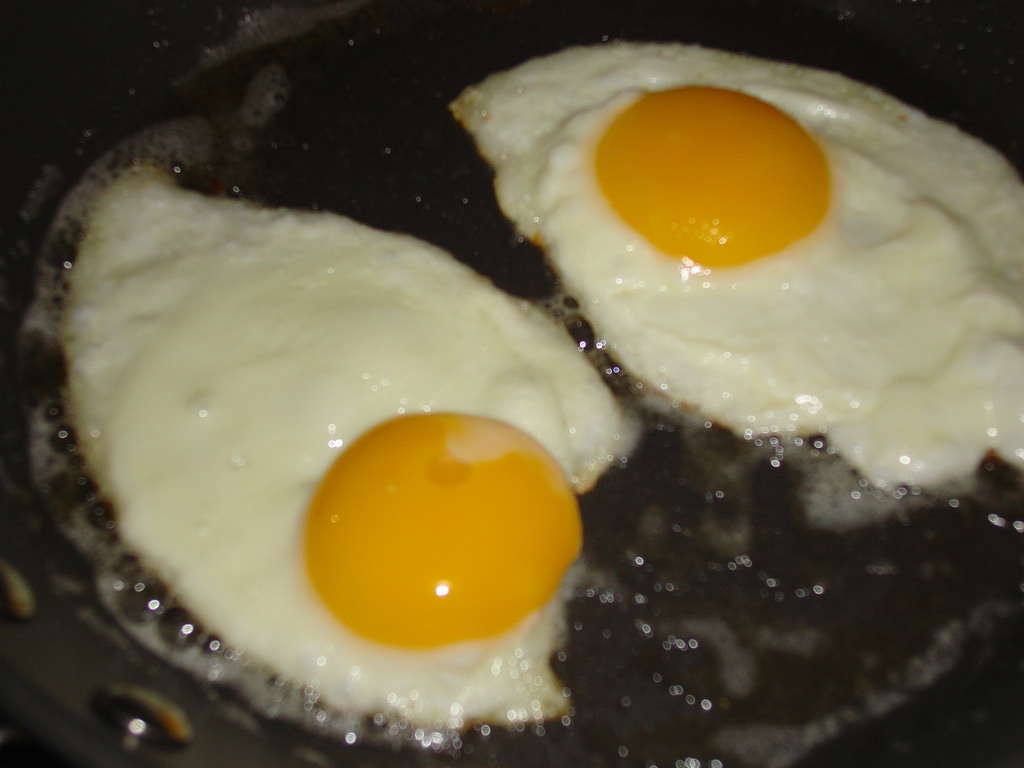fried egg: (63, 165, 560, 724), (465, 63, 1004, 432)
